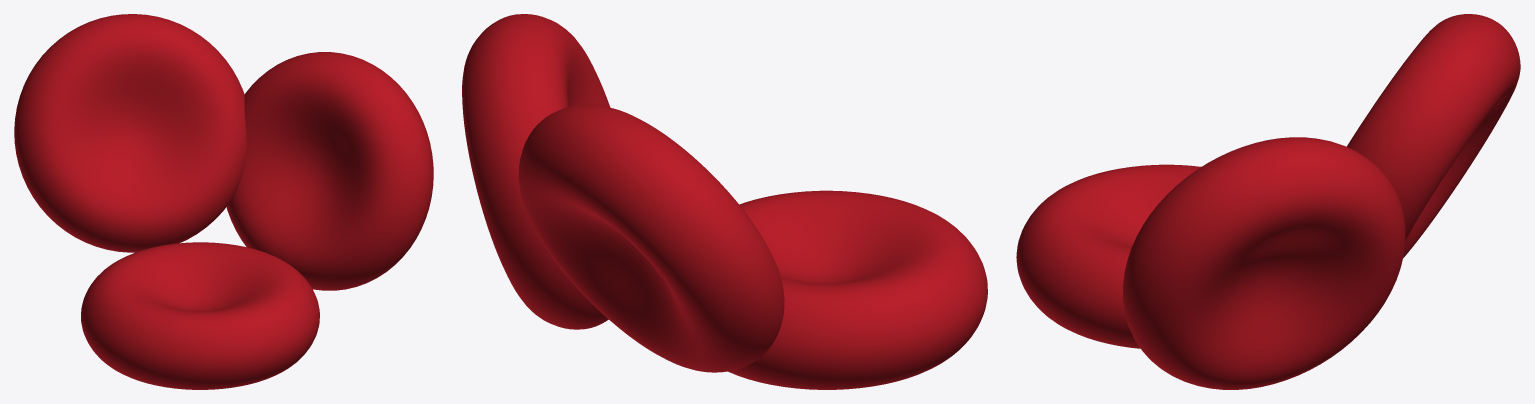
Rendered from red-blood-cells.glb.
3 renders of one model, left to right at view 1: azimuth 30°, elevation 25°; view 2: azimuth 150°, elevation 25°; view 3: azimuth 270°, elevation 25°, orthographic. The views are drawn at different scales.
Visible parts, largest first — view 1: Red_Blood_Cells; view 2: Red_Blood_Cells; view 3: Red_Blood_Cells.
Part boxes in pixels (x1=…): Red_Blood_Cells: x1=14, y1=14, x2=433, y2=389; Red_Blood_Cells: x1=462, y1=14, x2=987, y2=389; Red_Blood_Cells: x1=1016, y1=14, x2=1520, y2=389.
Bounding box in the file's own units: 0.6548 × 0.4395 × 0.6714.
